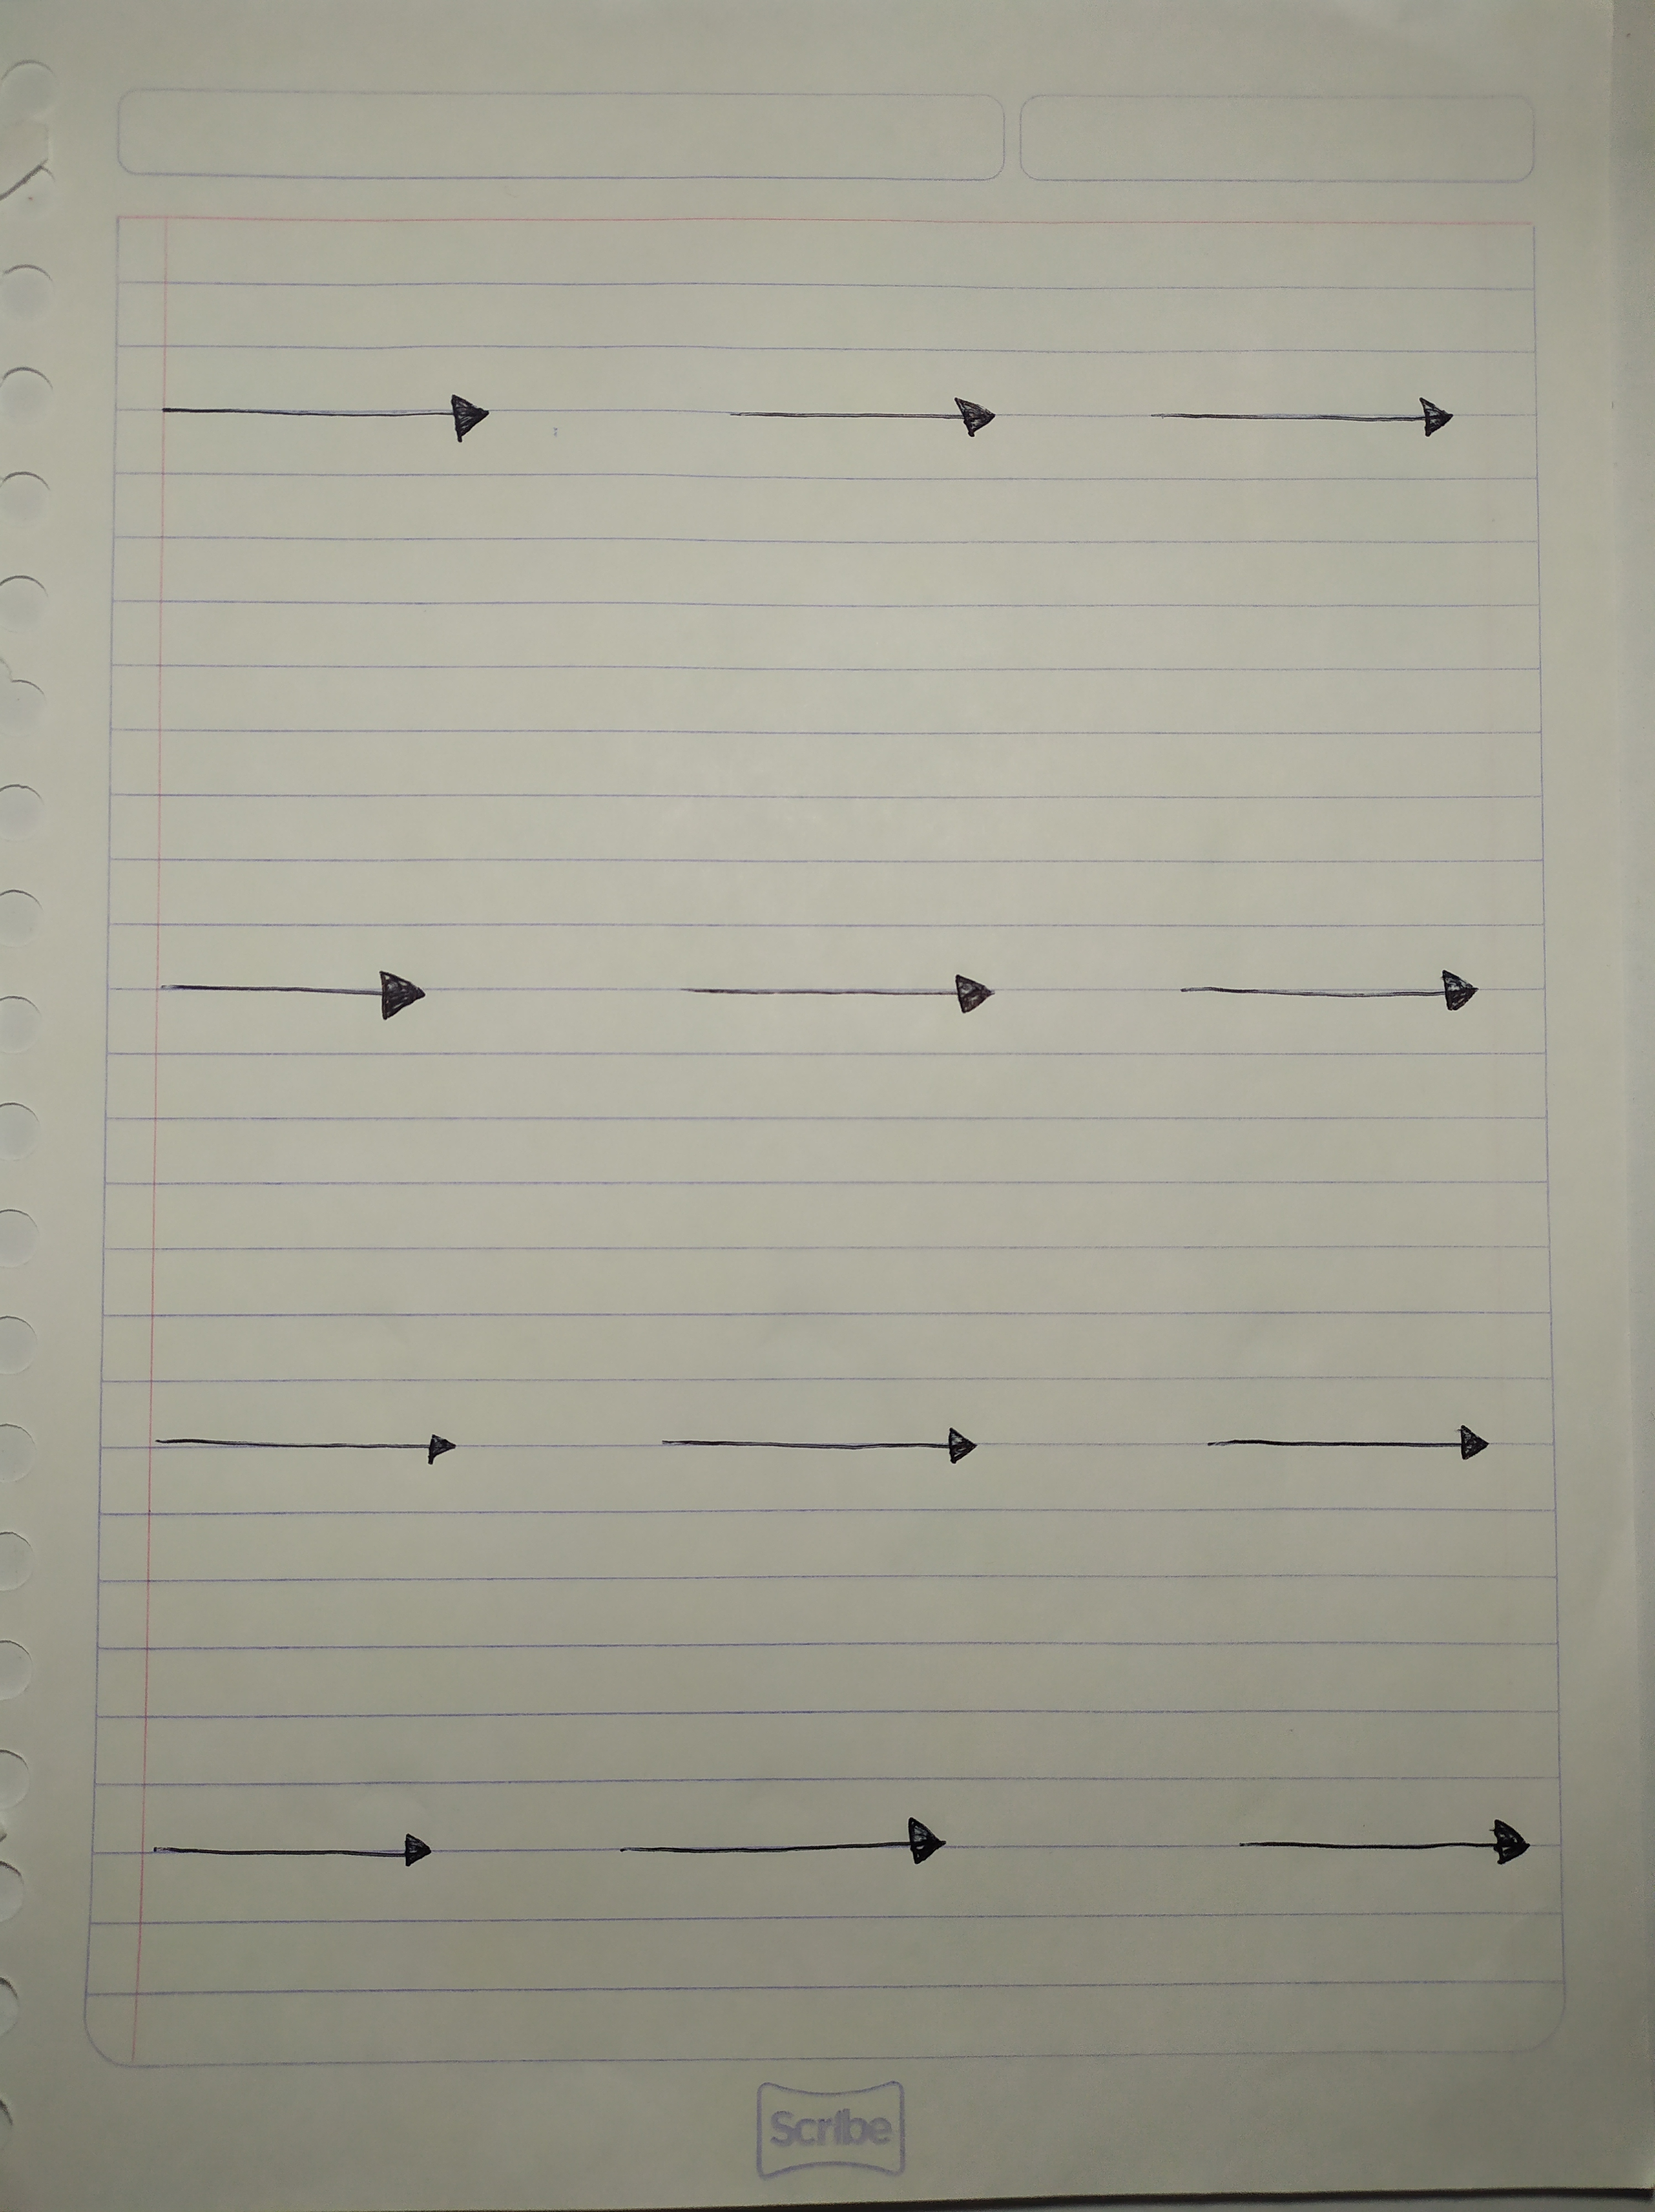arrow_line_right: (582, 1795, 987, 1904), (146, 363, 513, 476), (1128, 945, 1505, 1048), (120, 1401, 490, 1501), (624, 942, 1017, 1034), (692, 374, 1022, 471), (626, 1414, 996, 1500), (129, 942, 457, 1037), (1208, 1795, 1552, 1885), (1179, 1413, 1532, 1500), (1102, 387, 1483, 460), (125, 1814, 445, 1894)
